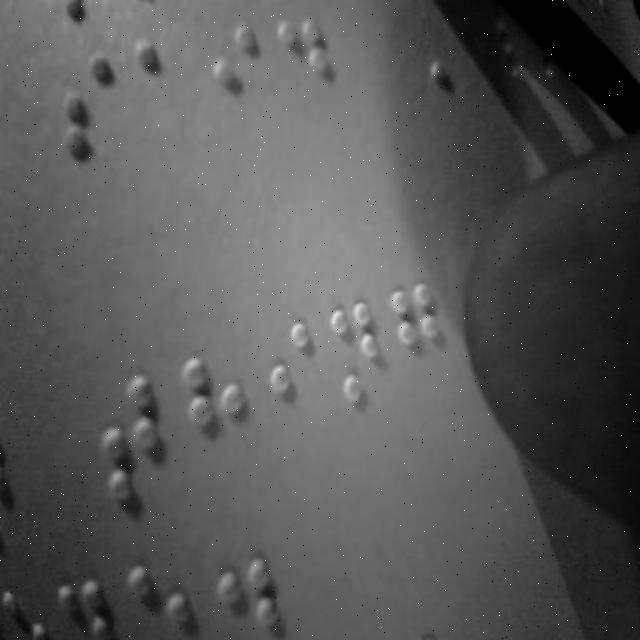A: (130, 31, 186, 132)
D: (276, 12, 338, 118)
G: (392, 274, 450, 396)
H: (178, 350, 250, 474)
I: (252, 317, 316, 443), (200, 23, 262, 129)
N: (328, 290, 388, 426)
R: (52, 49, 116, 161)
S: (88, 364, 166, 506)
